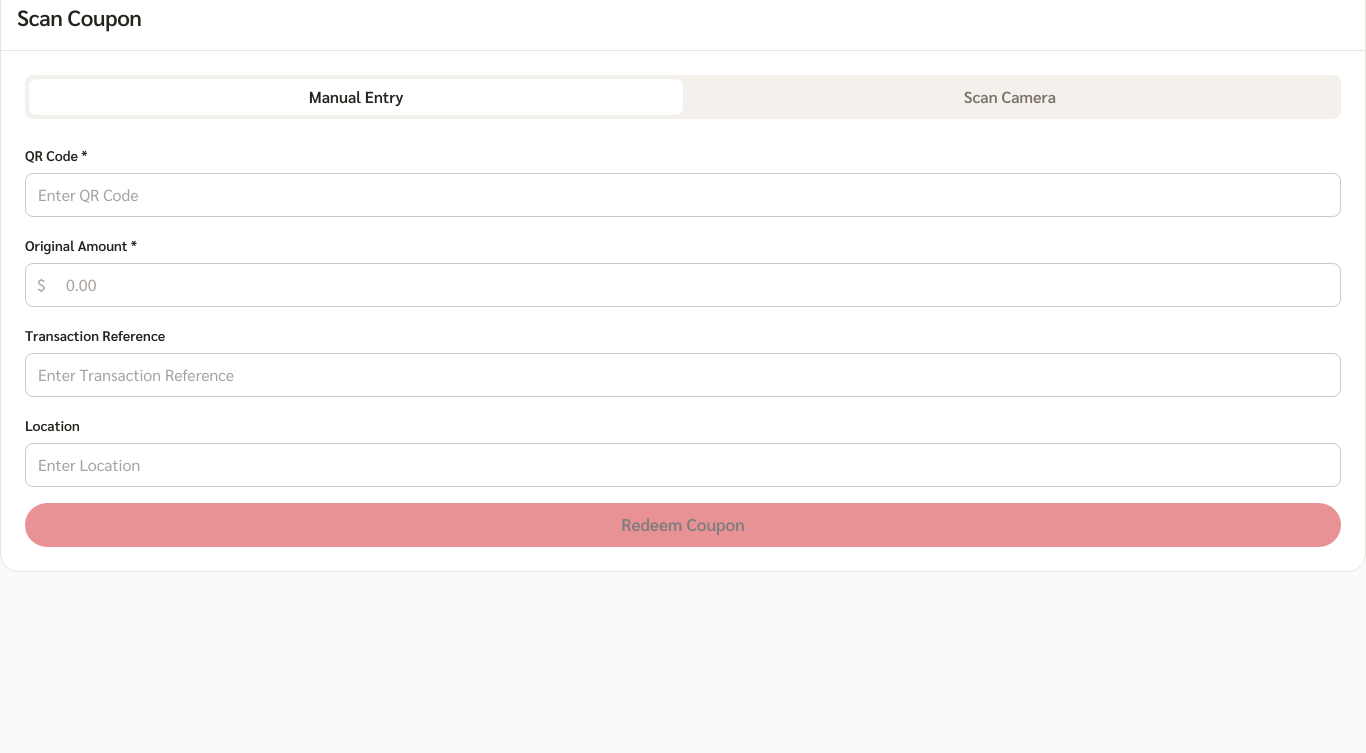
Test: CouponScanner › Form Submission › should display success message on successful redemption
This screenshot has width=1366, height=753.
Step 1. Type "QR123456" into the field labelled "QR Code *" → (683, 195), box [25,173,1341,217]
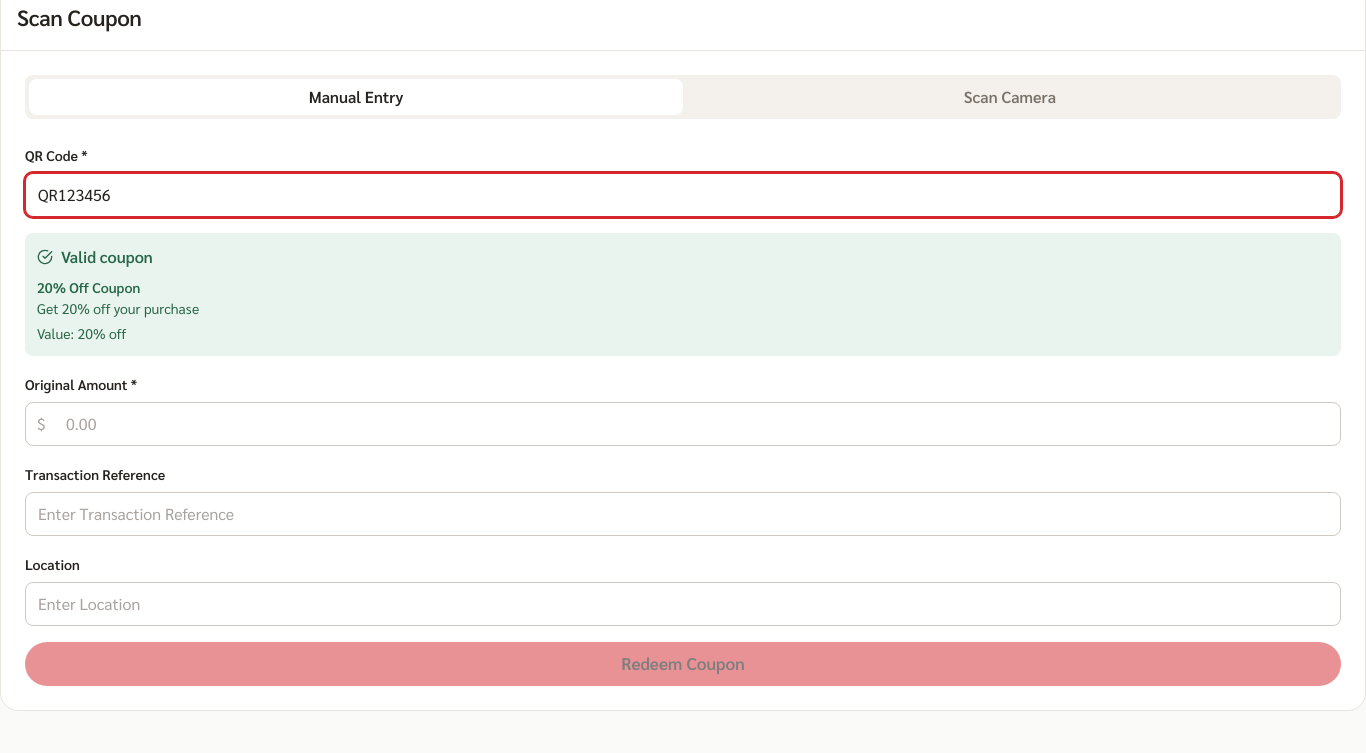
Now the text "Valid coupon" is shown, box [61,245,153,269]
Step 2. Type "1000" into the number field labelled "Original Amount *" → (683, 424), box [25,402,1341,446]
(page scrolled)
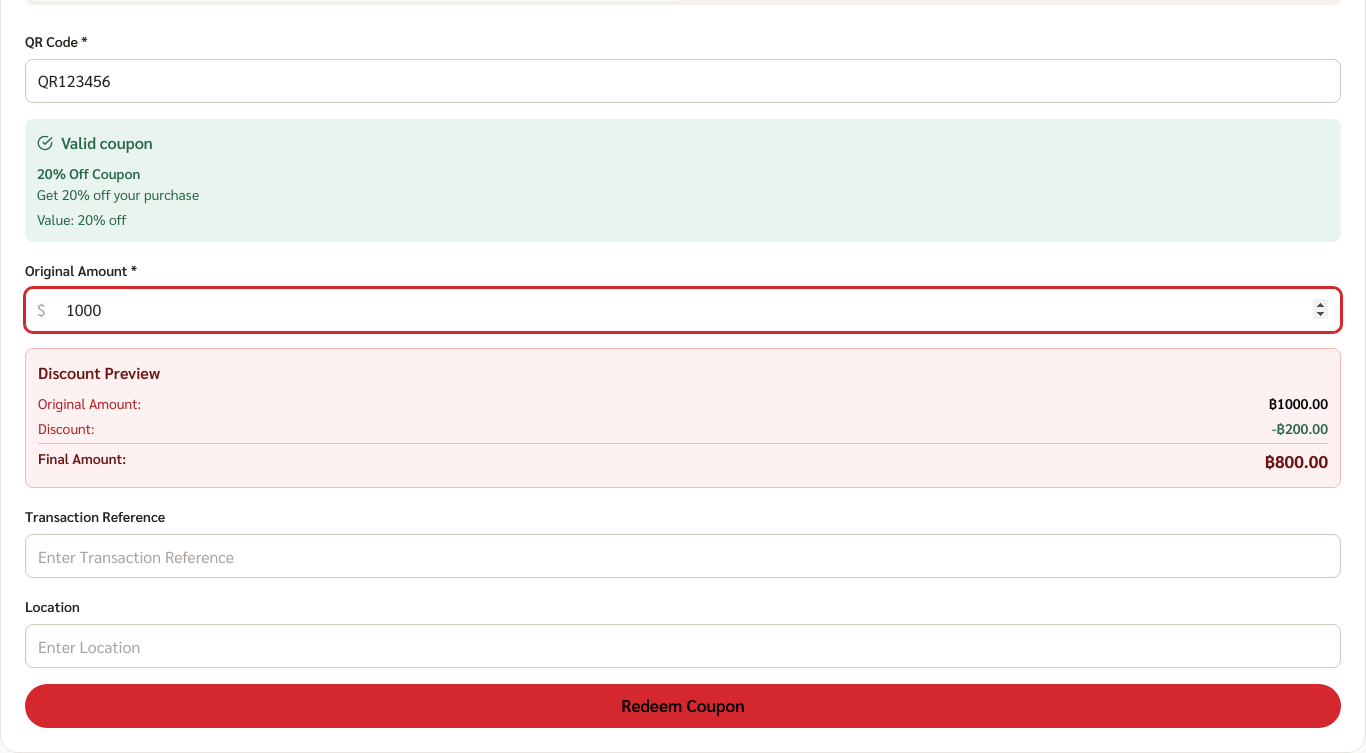
Step 3. Click the button "Redeem Coupon" → (683, 706), box [25,684,1341,728]
(page scrolled)
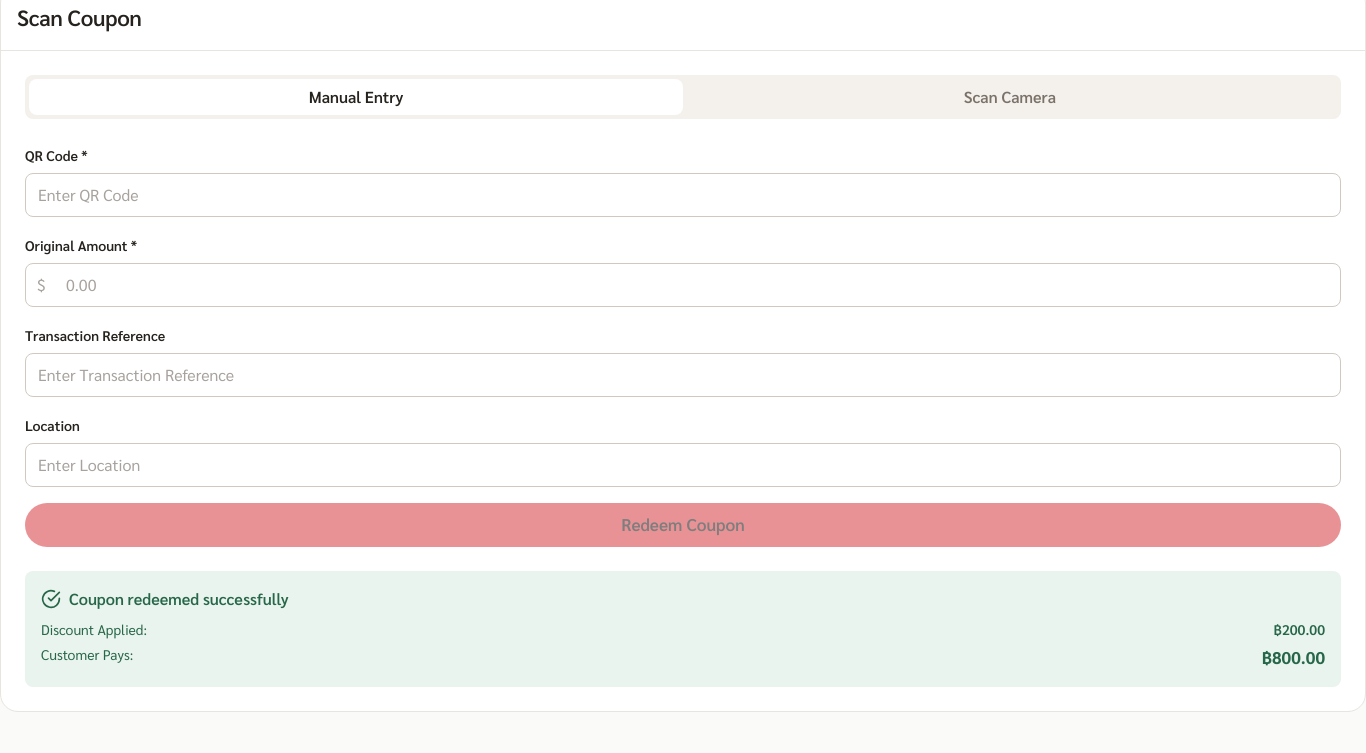
Now the text "Coupon redeemed successfully" is shown, box [69,587,289,611]
